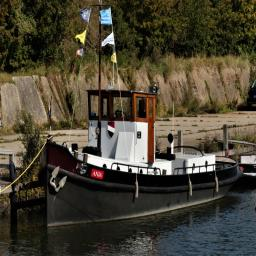tugboat: (38, 80, 245, 234)
